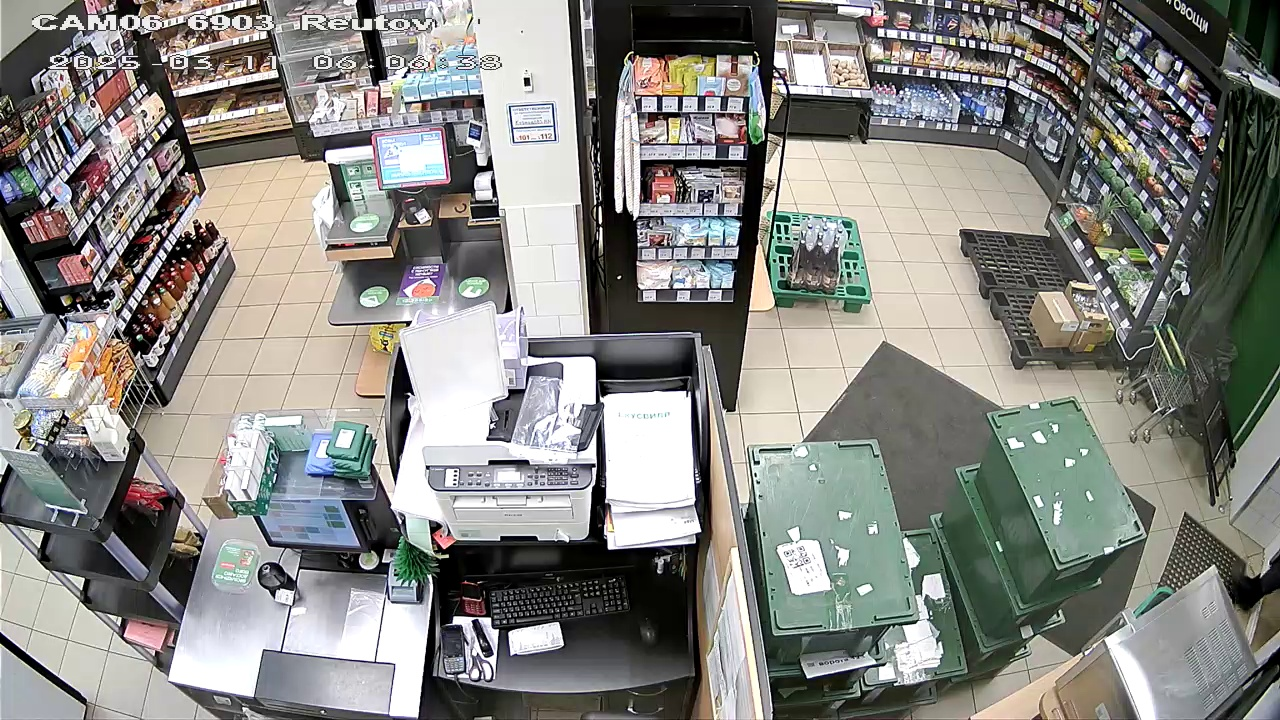pallet: (953, 221, 1124, 368)
